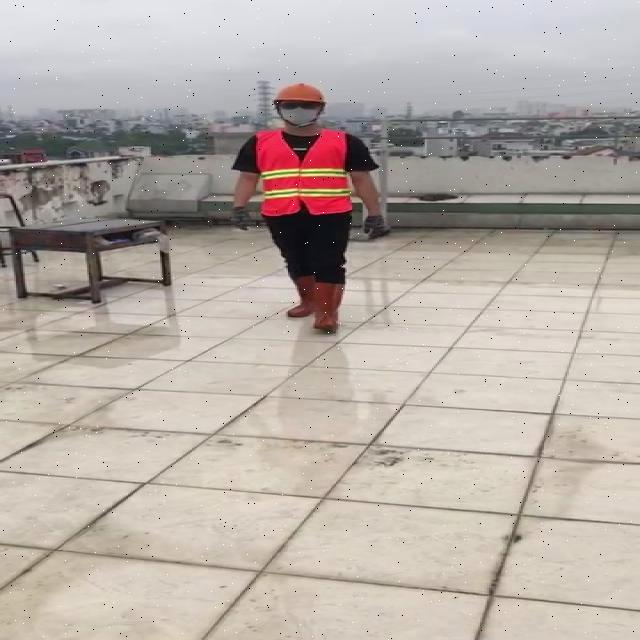Hard_hat: (268, 81, 329, 115)
Vest: (256, 124, 353, 219)
